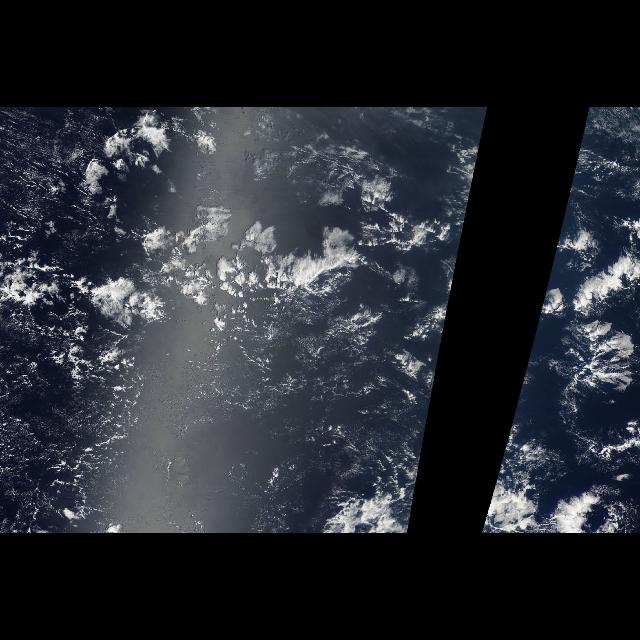Flower: (27, 125, 485, 395), (518, 125, 640, 395)
Sugar: (4, 342, 140, 530)
